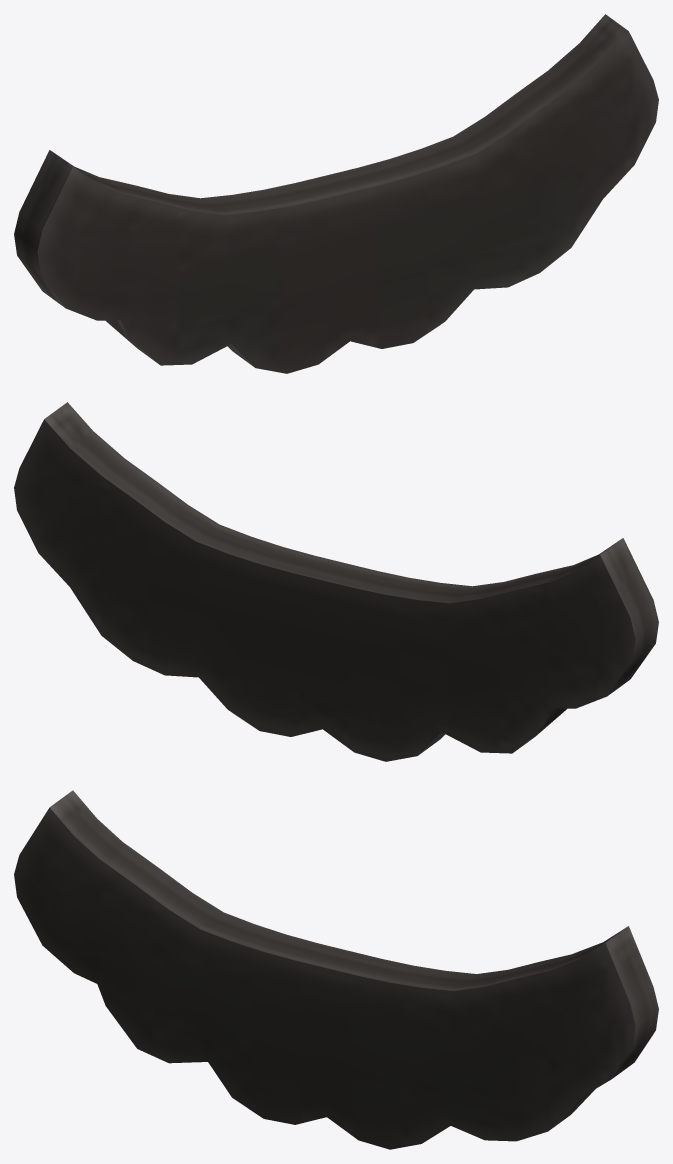
The model's file is Mario Moustache.fbx.
The picture shows the model from 3 angles, top to bottom: view 1: azimuth 30°, elevation 25°; view 2: azimuth 150°, elevation 25°; view 3: azimuth 330°, elevation 25°; orthographic projection.
Visible parts, largest first — view 1: Mario Moustache; view 2: Mario Moustache; view 3: Mario Moustache.
Boxes of the visible parts, left/top/right/bottom form: Mario Moustache: left=14, top=14, right=658, bottom=373; Mario Moustache: left=14, top=402, right=658, bottom=761; Mario Moustache: left=14, top=790, right=658, bottom=1149.
Size of the model in its own units: 26.11 by 10.41 by 1.94.
